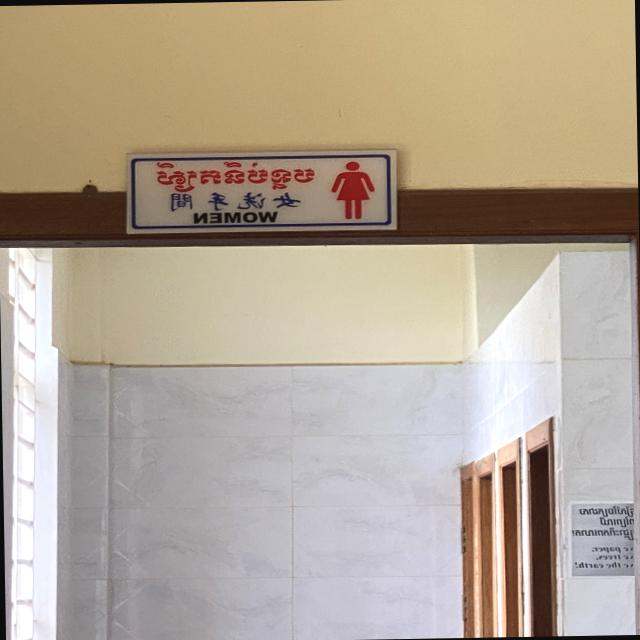Yolov11kh: (149, 160, 317, 194)
